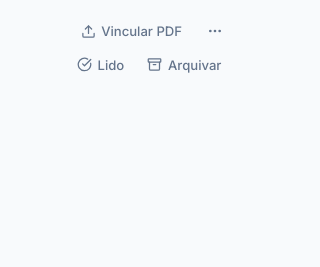
Test case: ArticleRowActions menu › runs the chosen action, closes and returns focus to the button
What coordinates should you click on to do the following:
click the button named "Mais ações"
I would click on:
 (215, 31)
Its box is [199,15,231,47].
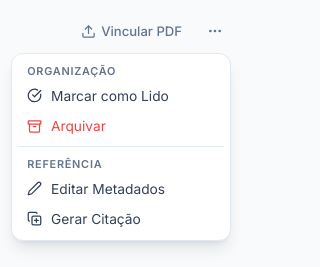
What coordinates should you click on to do the following:
click the menu item "Gerar Citação"
I would click on:
 (121, 219)
Its box is [18,204,224,234].
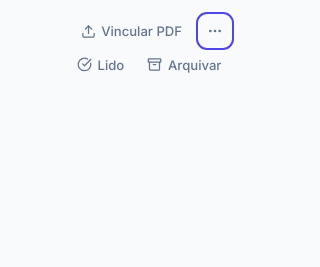
Expected: the menu is gone
